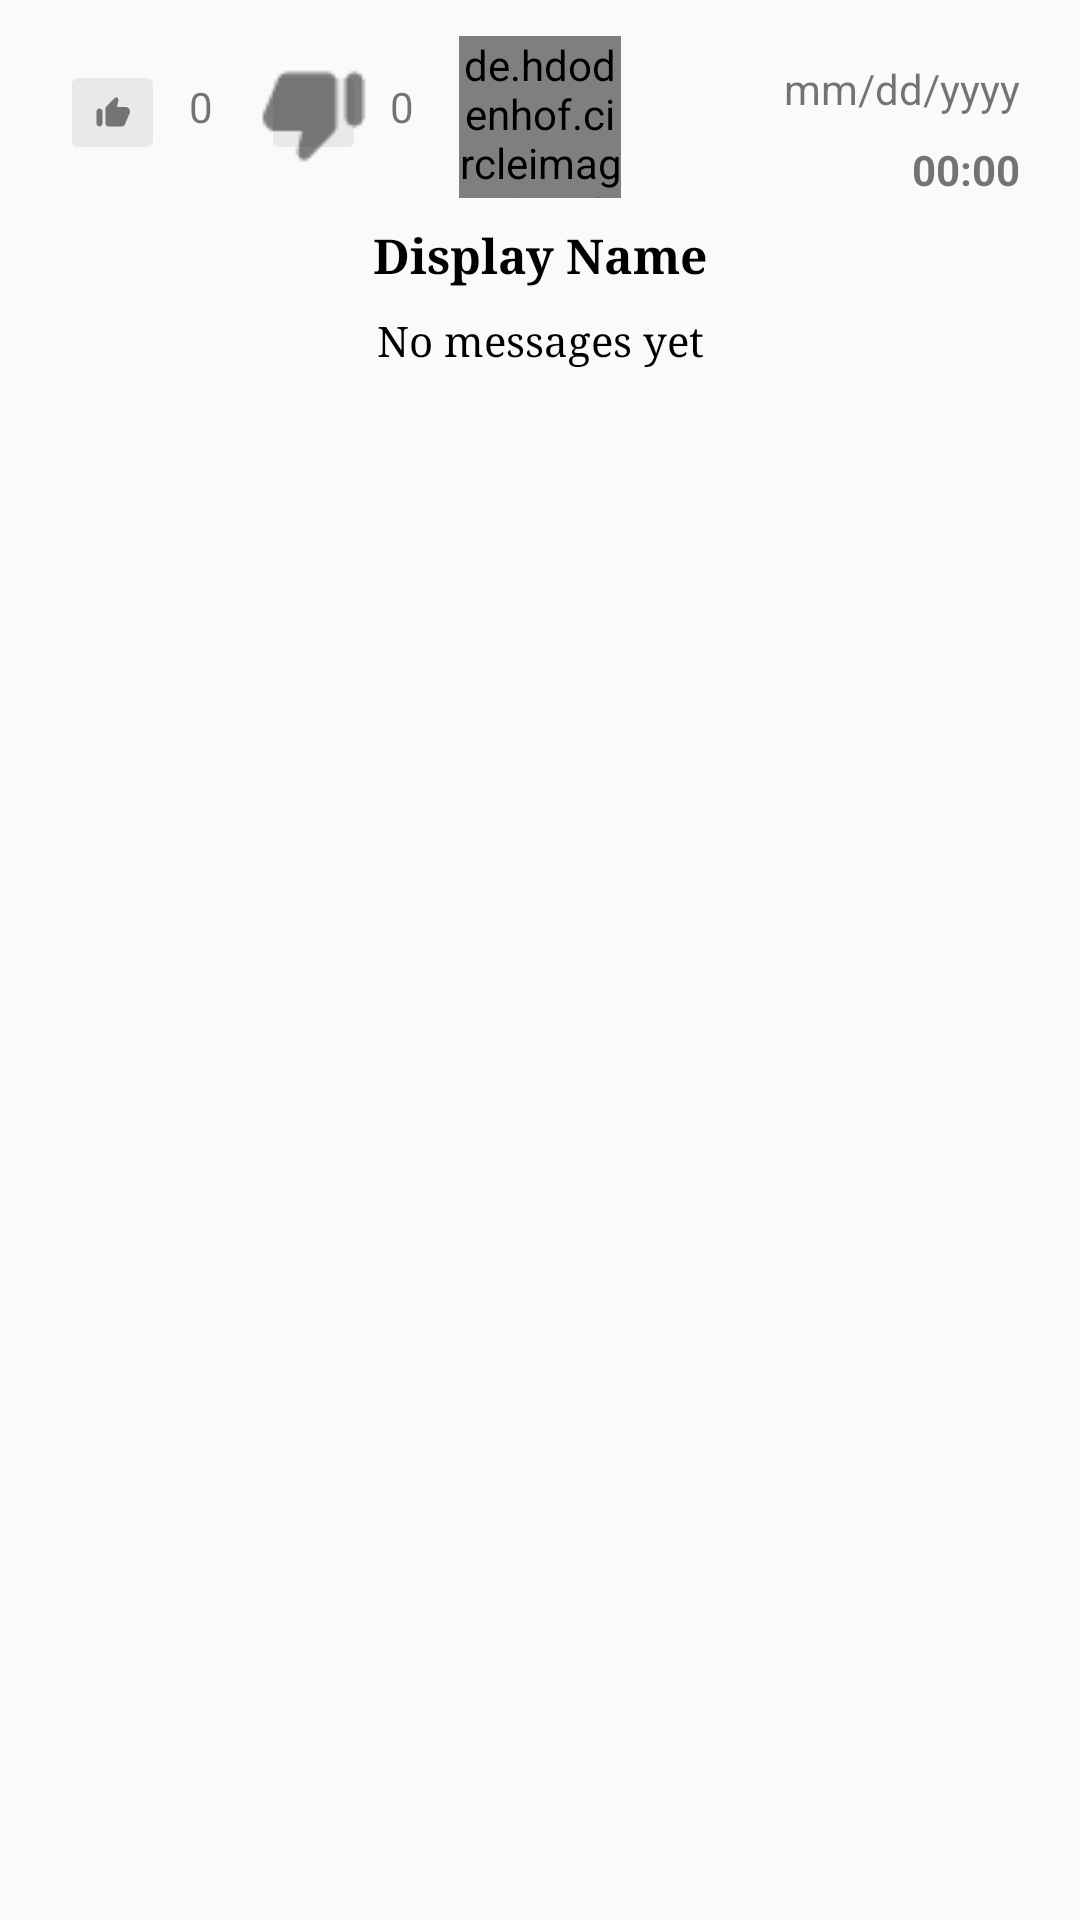

Where icons sit on this 1080x1920 app screen, as rect(x1, y1, x2, y2):
thumb down: rect(262, 71, 365, 162)
thumb up: rect(96, 97, 130, 127)
